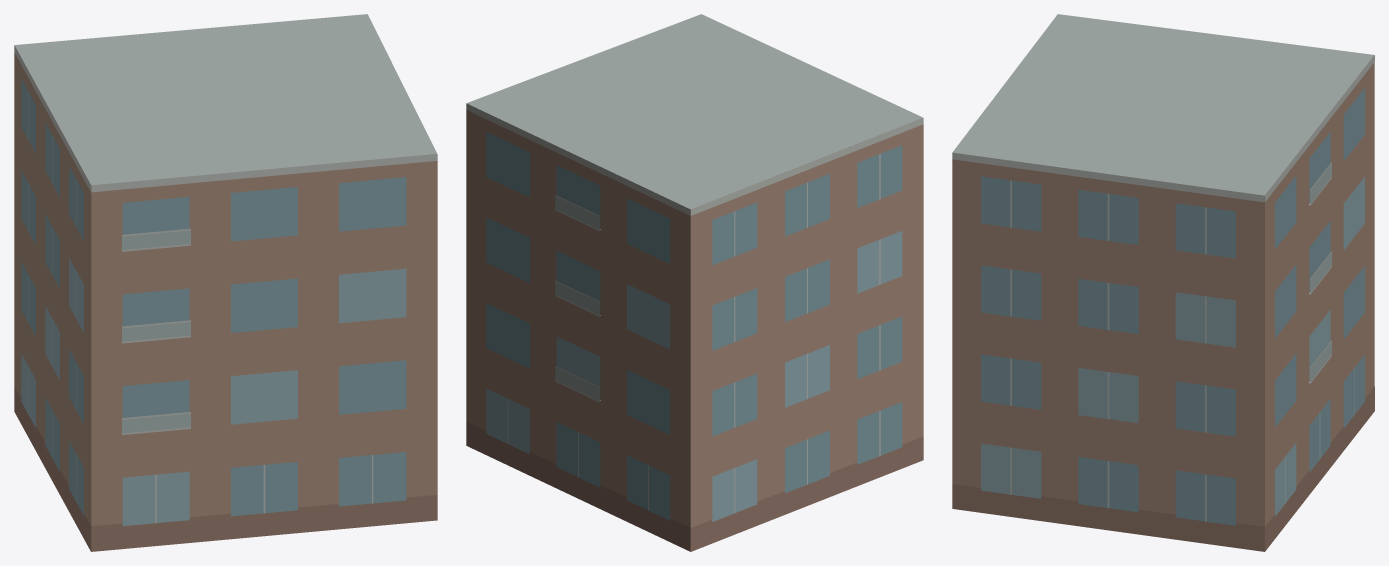
Rendered from survey-upis-33010575.glb.
The picture shows the model from 3 angles, left to right: view 1: azimuth 30°, elevation 25°; view 2: azimuth 150°, elevation 25°; view 3: azimuth 270°, elevation 25°; orthographic projection. The views are drawn at different scales.
Visible parts, largest first — view 1: survey-upis-33010575.tmp; view 2: survey-upis-33010575.tmp; view 3: survey-upis-33010575.tmp.
Part boxes in pixels (x1,y1,x2,y2): survey-upis-33010575.tmp: [14, 14, 437, 551]; survey-upis-33010575.tmp: [466, 14, 923, 551]; survey-upis-33010575.tmp: [952, 14, 1374, 551].
Size of the model in its own units: 14.01 by 12.8 by 13.77.
